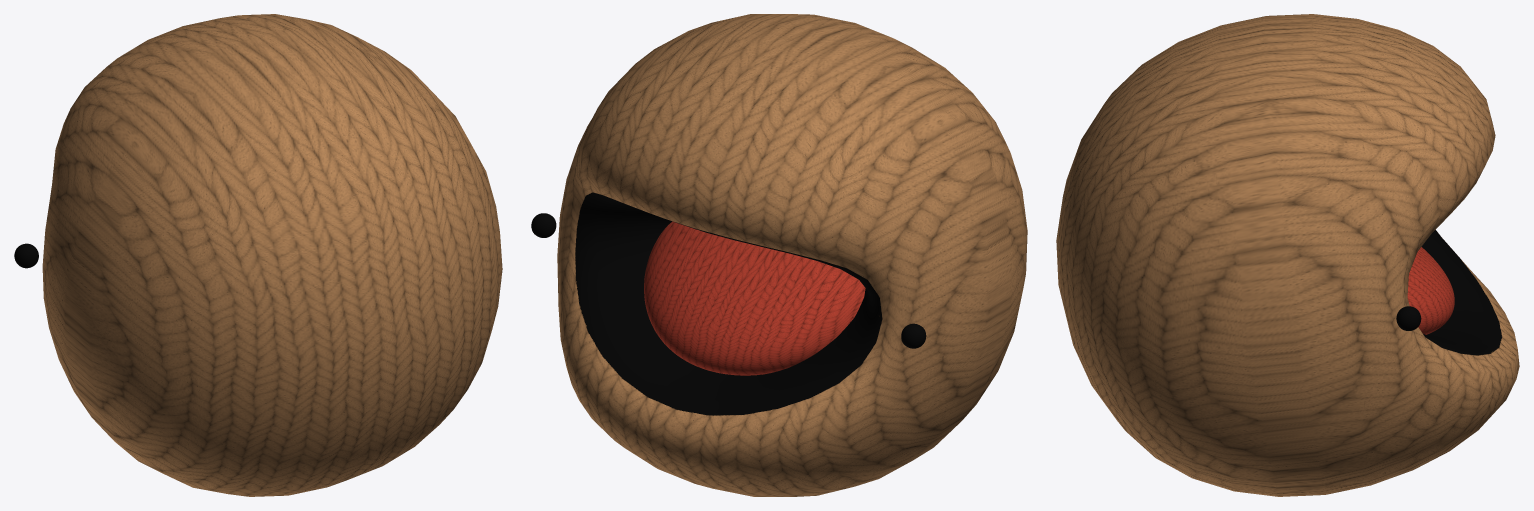
The model's file is ball.glb.
3 renders of one model, left to right at view 1: azimuth 30°, elevation 25°; view 2: azimuth 150°, elevation 25°; view 3: azimuth 270°, elevation 25°, orthographic. The views are drawn at different scales.
Visible parts, largest first — view 1: Cube; view 2: Cube; view 3: Cube.
Boxes of the visible parts, x1,y1,x2,y2 form: Cube: (14, 14, 502, 496); Cube: (531, 14, 1027, 496); Cube: (1056, 14, 1519, 496).
Bounding box in the file's own units: 2.76 × 2.82 × 2.73.
Materials: 3 (2 with a texture image).
